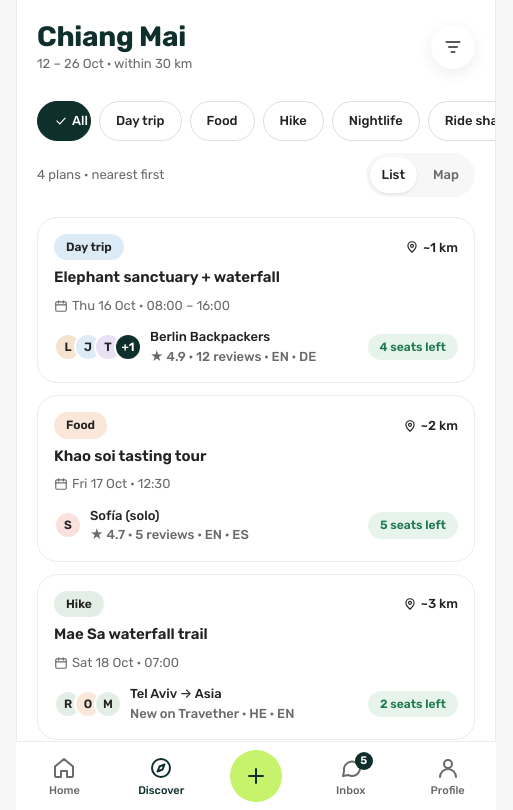
mockup screens › filters Discover by category
Click the button "Food". click: (222, 121)
box: [190,101,254,141]
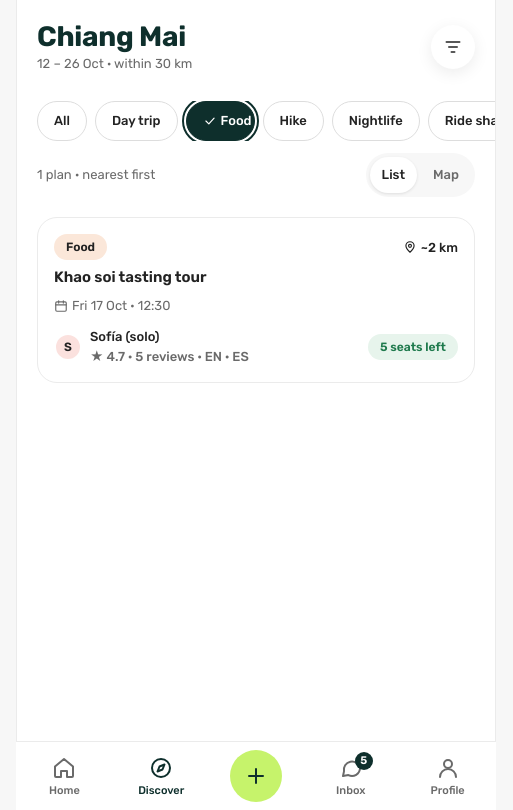
Check: the text "Khao soi tasting tour" is shown, box [54,268,207,286]
Check: the link "Mae Sa waterfall trail" is gone
